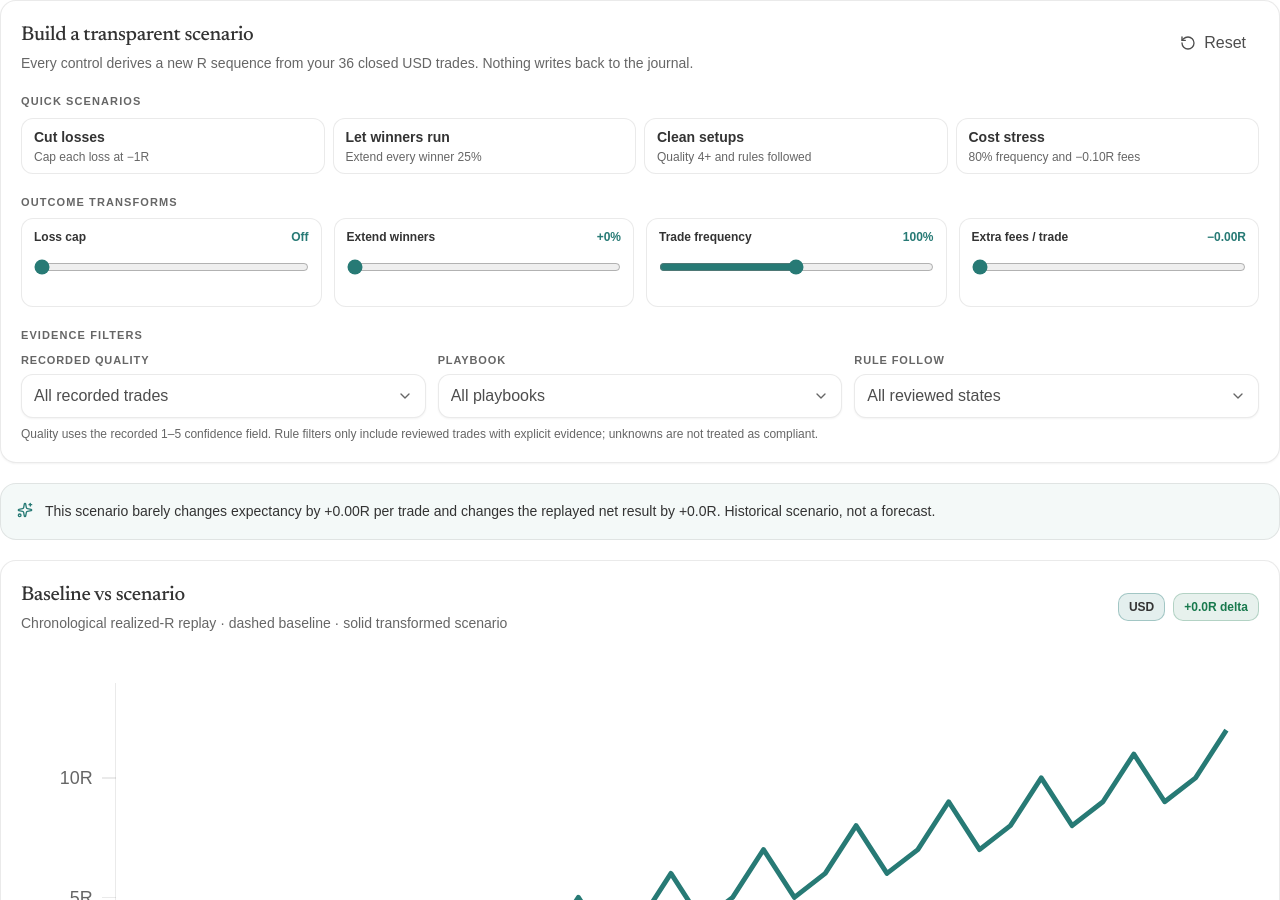
Test case: WhatIfWorkspace › applies a named preset, exposes the comparison, and resets
Expected: the heading "Build a transparent scenario" is shown, [21,25,253,45]
Expected: the text "+0.0R delta" is shown, [1173,593,1259,621]
Click the button "Cut losses Cap each loss at −1R": (69, 136) [21,118,324,174]
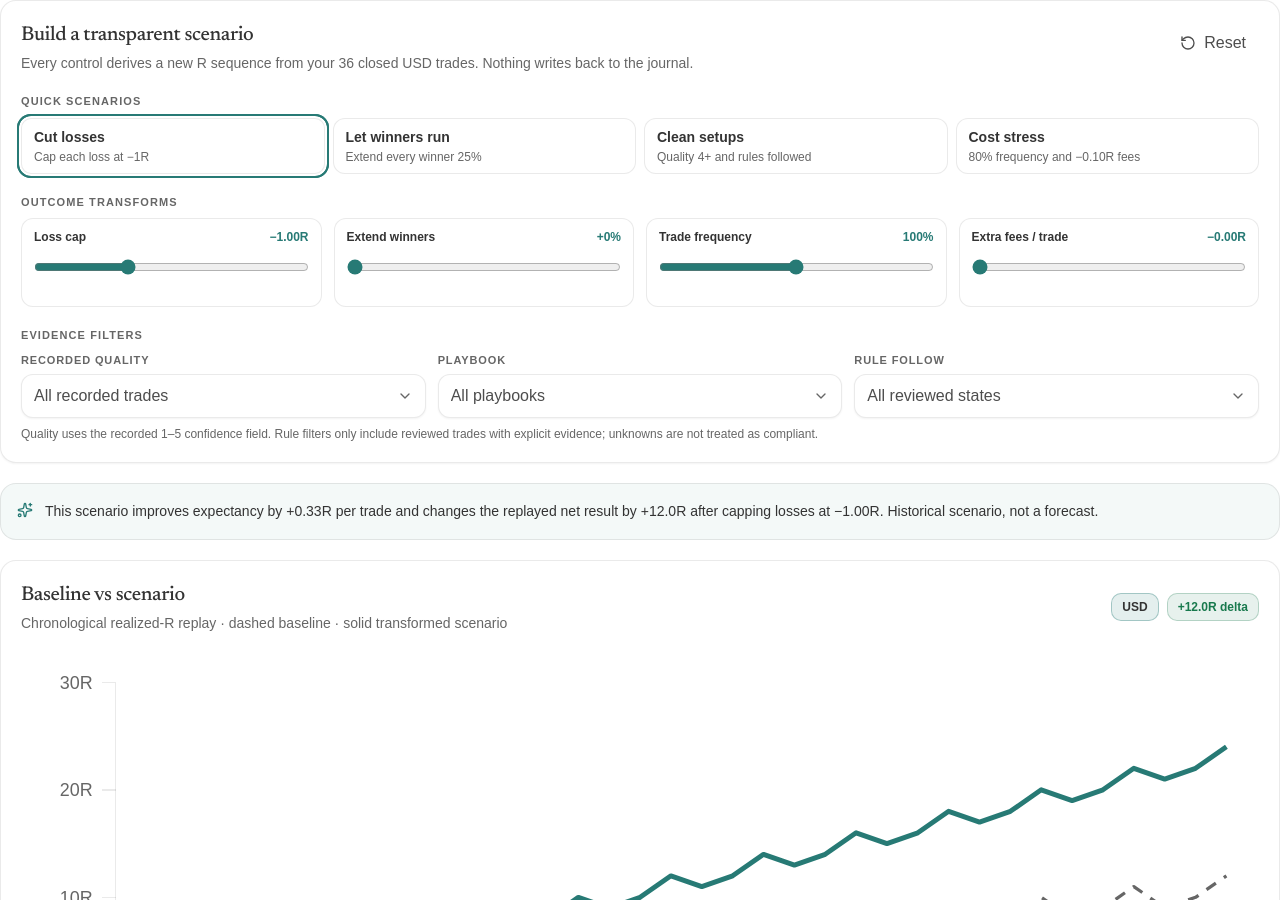
Now the text "+12.0R delta" is shown, box [1167,593,1259,621]
Now the text "capping losses at −1.00R" is shown, box [45,503,1098,519]
Click the button "Reset": (1213, 43) [1167,21,1259,65]
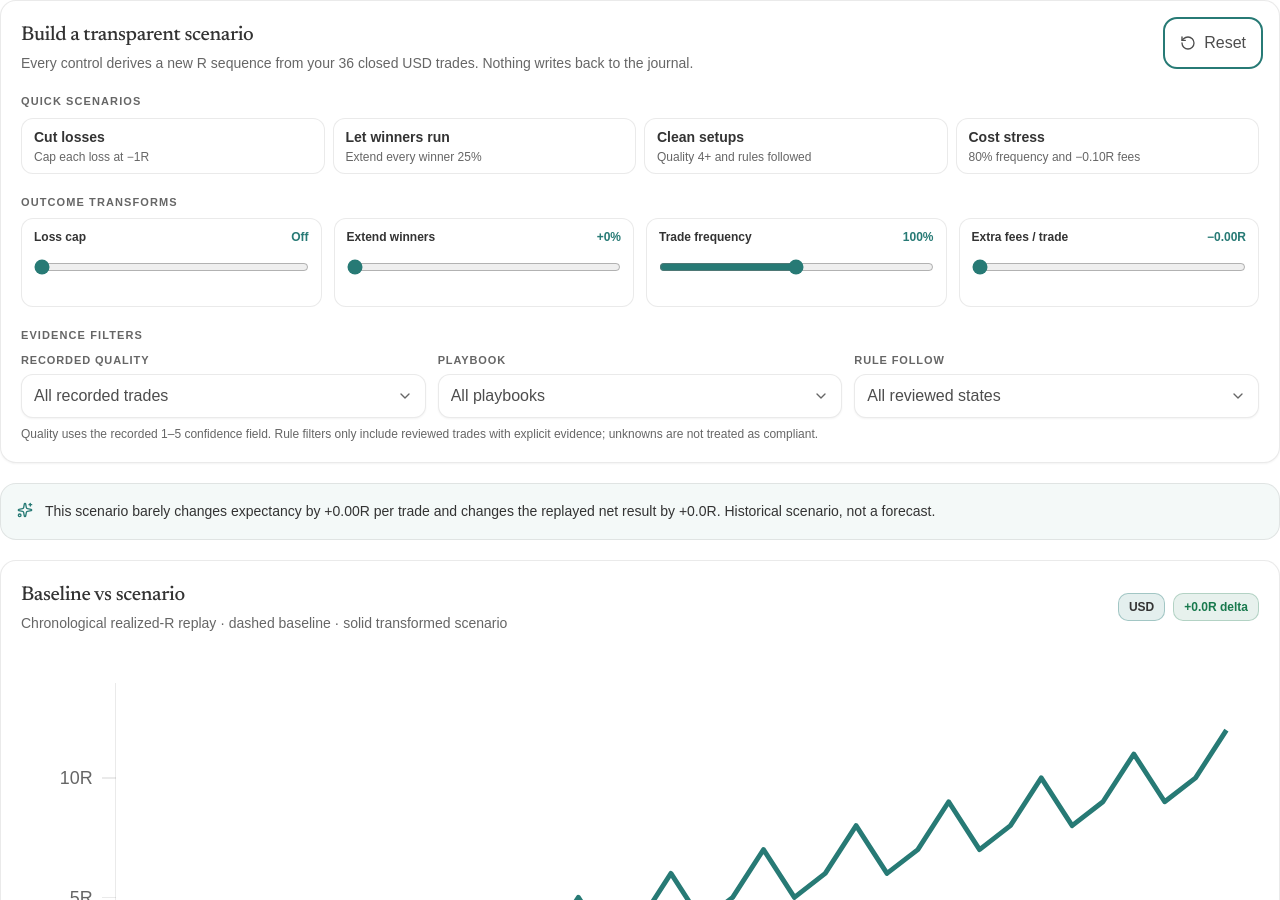
Now the text "+0.0R delta" is shown, box [1173,593,1259,621]
